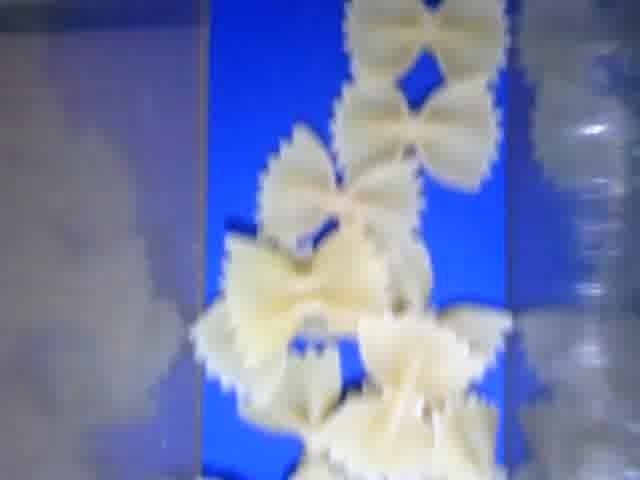farfalle: (314, 314, 469, 480), (253, 122, 424, 261), (224, 225, 388, 366), (332, 78, 501, 197), (340, 1, 508, 91)
